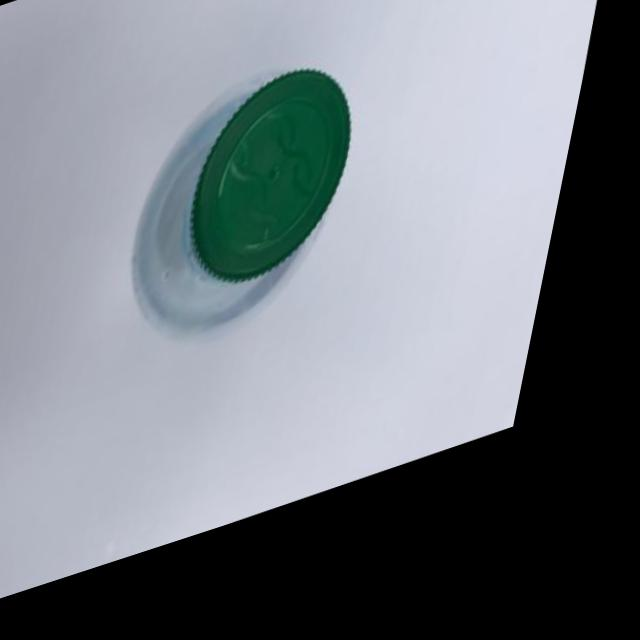plastic: (127, 38, 405, 381)
